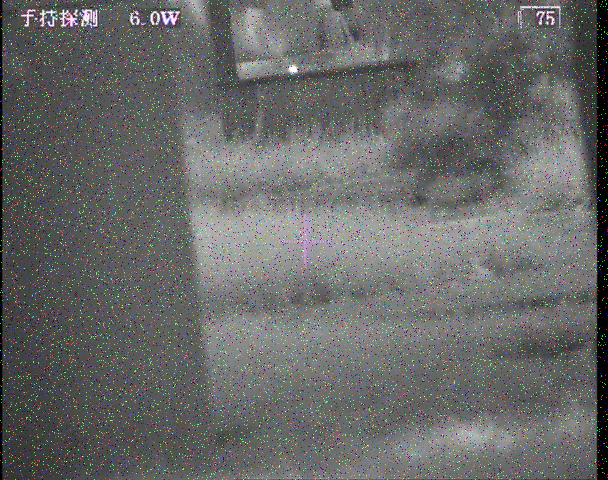my: (288, 64, 298, 74)
